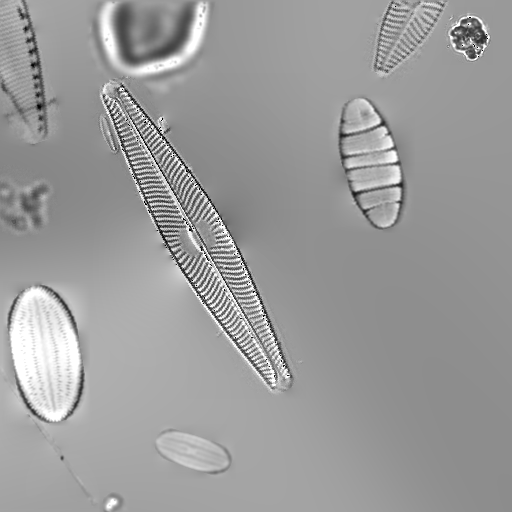AFOR: (0, 342, 103, 512)
CPLA: (0, 275, 96, 431)
DMES: (319, 85, 423, 241)
DOCU: (144, 418, 242, 484)
NFON: (0, 0, 70, 151)
NLAN: (74, 59, 320, 413)
NRCH: (341, 0, 475, 90)
